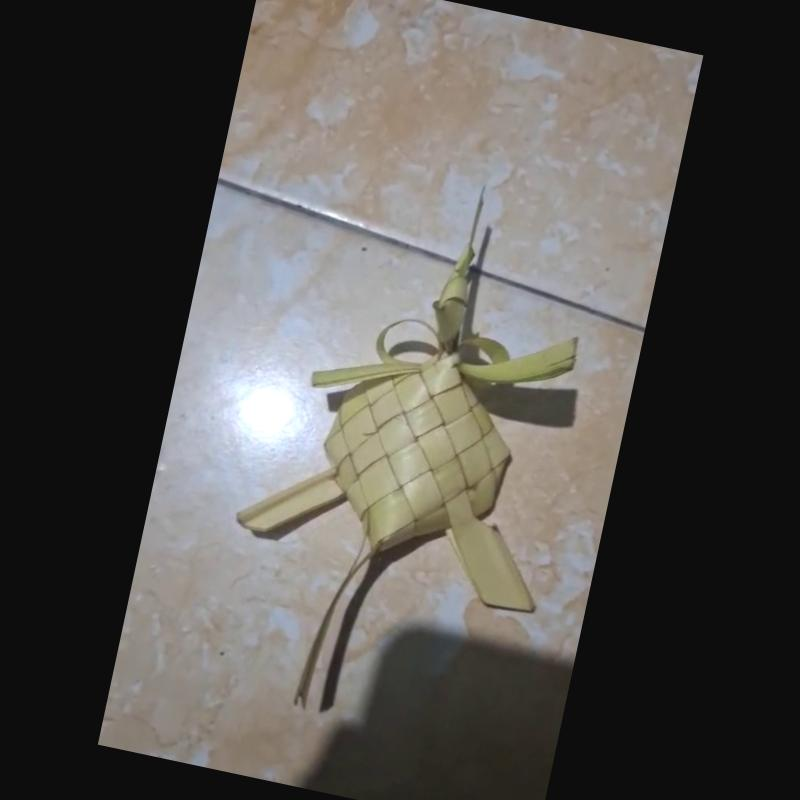Tipat Dampulan: (238, 183, 583, 707)
